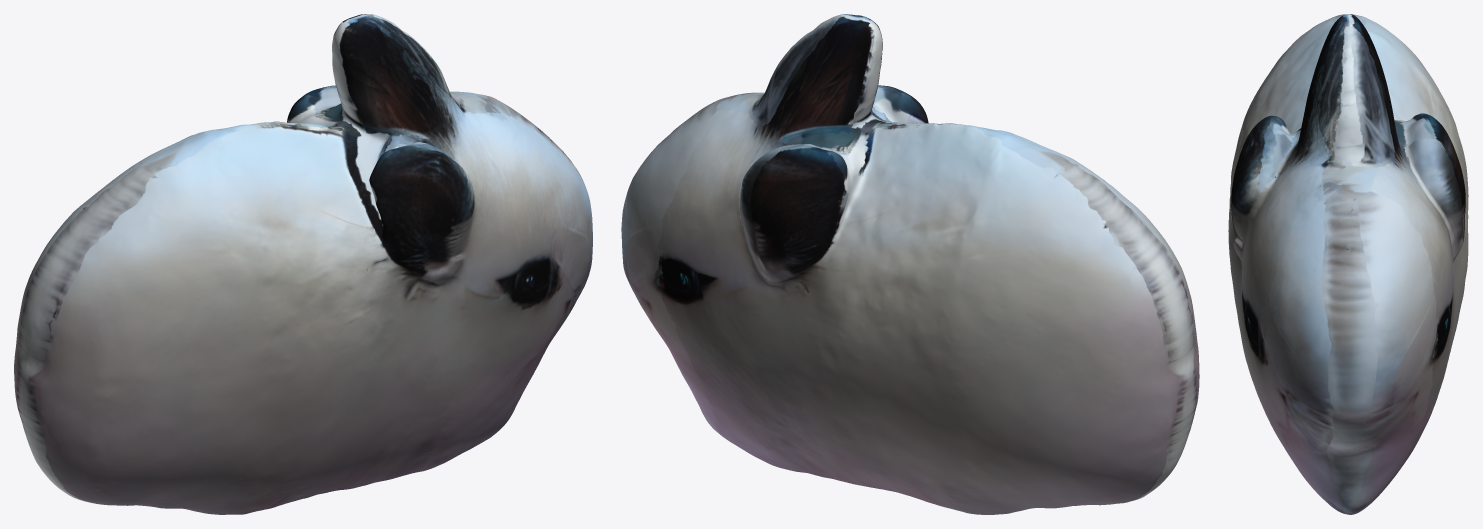
The model's file is bebe.glb.
The picture shows the model from 3 angles, left to right: view 1: azimuth 30°, elevation 25°; view 2: azimuth 150°, elevation 25°; view 3: azimuth 270°, elevation 25°; orthographic projection. The views are drawn at different scales.
Visible parts, largest first — view 1: mesh; view 2: mesh; view 3: mesh.
Part boxes in pixels (<box>): mesh: <box>14,14,592,514</box>; mesh: <box>621,14,1199,514</box>; mesh: <box>1228,14,1468,514</box>.
Bounding box in the file's own units: 1.9 × 1.51 × 0.7273.
1 material, 1 textured.
